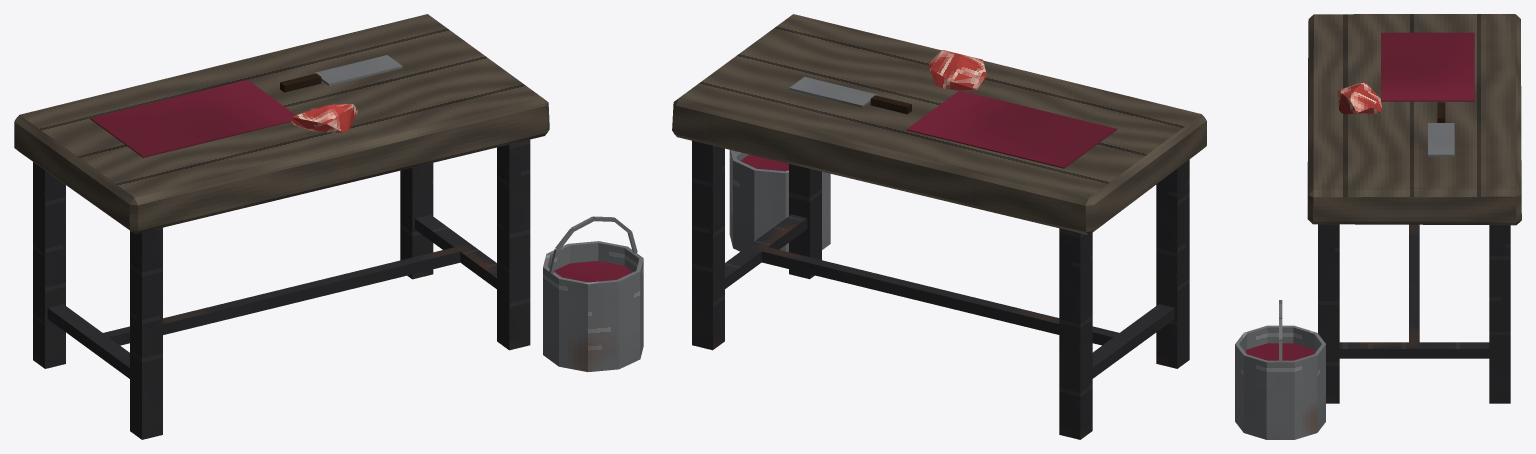
File: butcher_table.glb
3 renders of one model, left to right at view 1: azimuth 30°, elevation 25°; view 2: azimuth 150°, elevation 25°; view 3: azimuth 270°, elevation 25°, orthographic. The views are drawn at different scales.
Visible parts, largest first — view 1: butcher_table; view 2: butcher_table; view 3: butcher_table.
Part boxes in pixels (x1,y1,x2,y2): butcher_table: (14,14,643,439); butcher_table: (672,14,1206,439); butcher_table: (1235,14,1521,439).
Size of what is drawn, in the model's own units: 1.87 by 0.9784 by 1.07.
6 materials, 6 textured.
